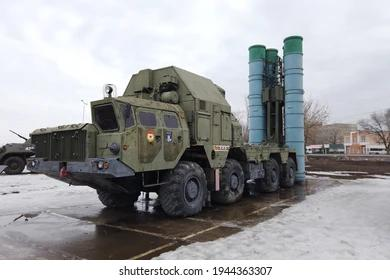MIL_SAM_TEL: (24, 32, 311, 223)
